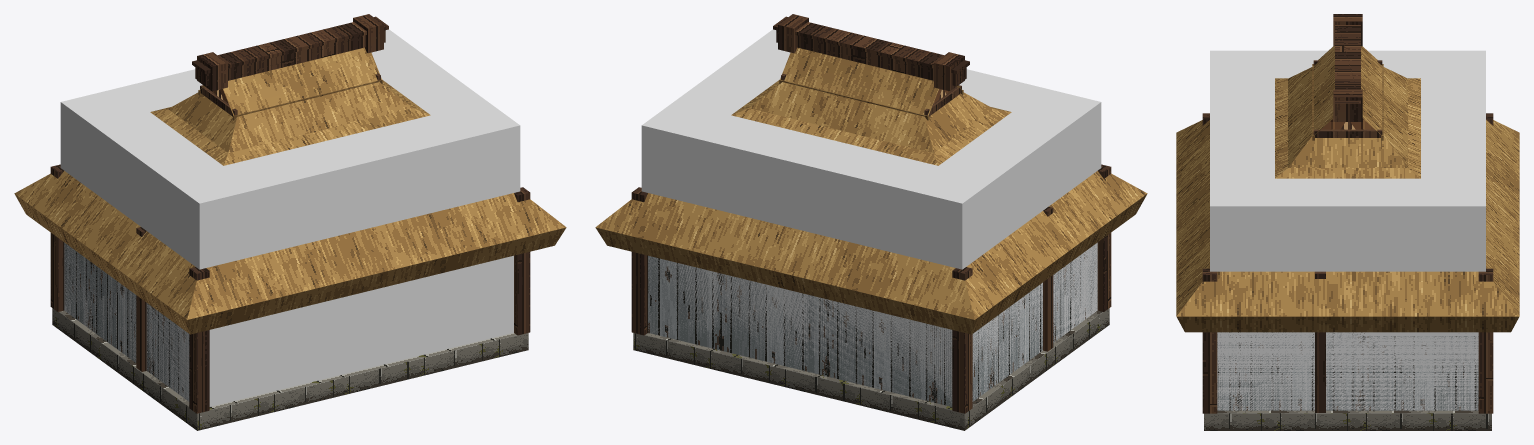
The model's file is JP_Farm_Barn_A.glb.
3 renders of one model, left to right at view 1: azimuth 30°, elevation 25°; view 2: azimuth 150°, elevation 25°; view 3: azimuth 270°, elevation 25°, orthographic.
Visible parts, largest first — view 1: COL_JP_Farm_Barn_A, JP_Farm_Barn_A; view 2: JP_Farm_Barn_A, COL_JP_Farm_Barn_A; view 3: JP_Farm_Barn_A, COL_JP_Farm_Barn_A.
Boxes of the visible parts, box(x1,y1,x2,y2) form: COL_JP_Farm_Barn_A: box(60, 29, 520, 406); JP_Farm_Barn_A: box(14, 14, 566, 430); JP_Farm_Barn_A: box(595, 14, 1147, 430); COL_JP_Farm_Barn_A: box(641, 29, 1101, 404); JP_Farm_Barn_A: box(1176, 14, 1519, 430); COL_JP_Farm_Barn_A: box(1210, 50, 1485, 410).
Bounding box in the file's own units: 7.1 × 5.31 × 5.6.
9 materials, 9 textured.
